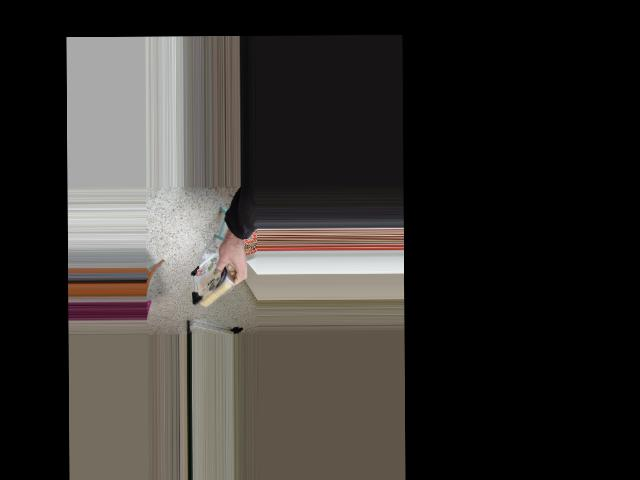cheese: (174, 255, 251, 320)
